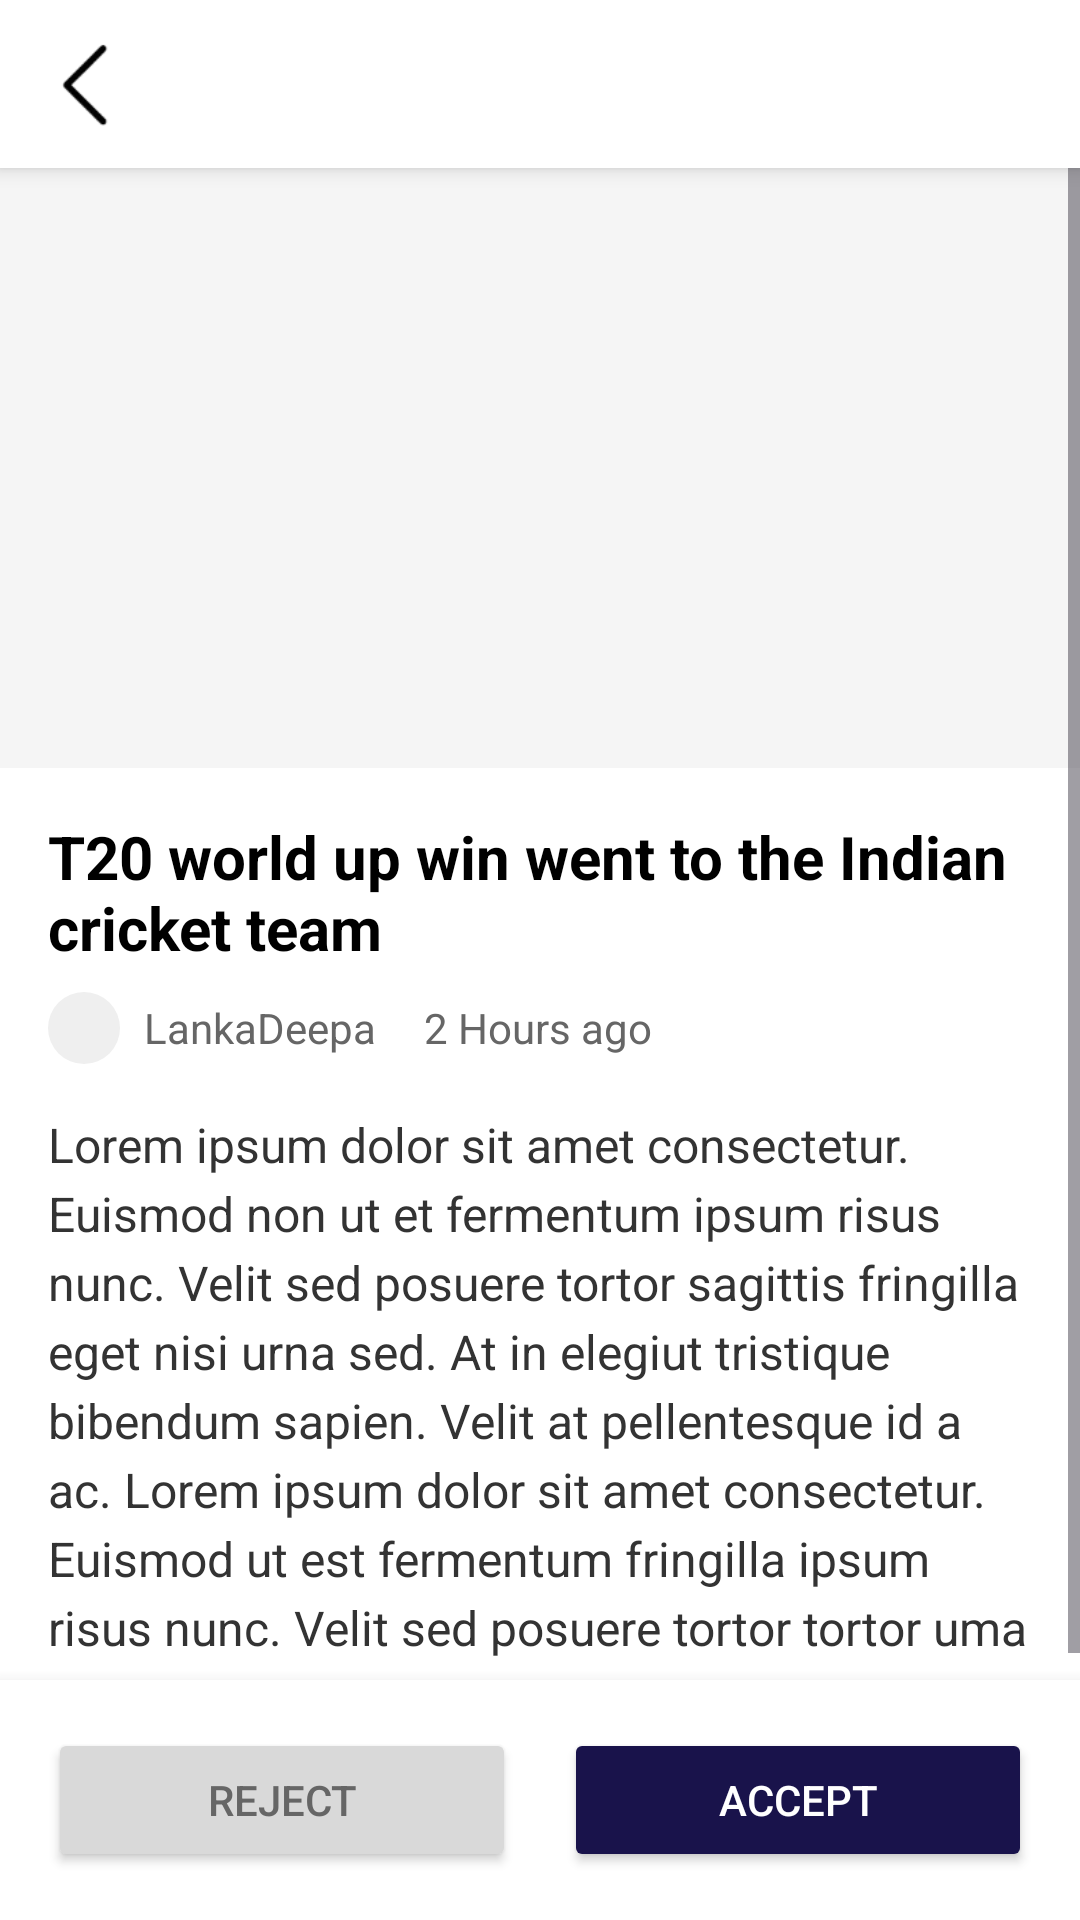

Icons on this 1080px×1920px Android screen, each with its box as (x1, y1, x2, y2):
backicon: (63, 45, 107, 126)
